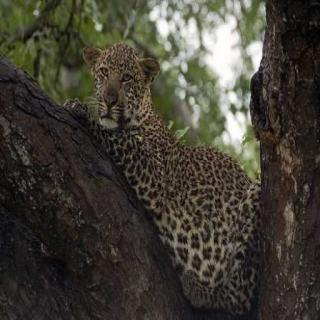Leopard: (61, 31, 269, 288)
